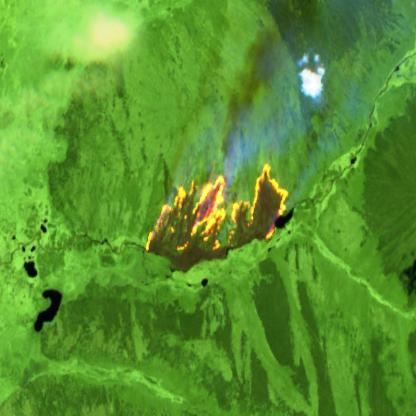fire: (142, 160, 290, 258)
